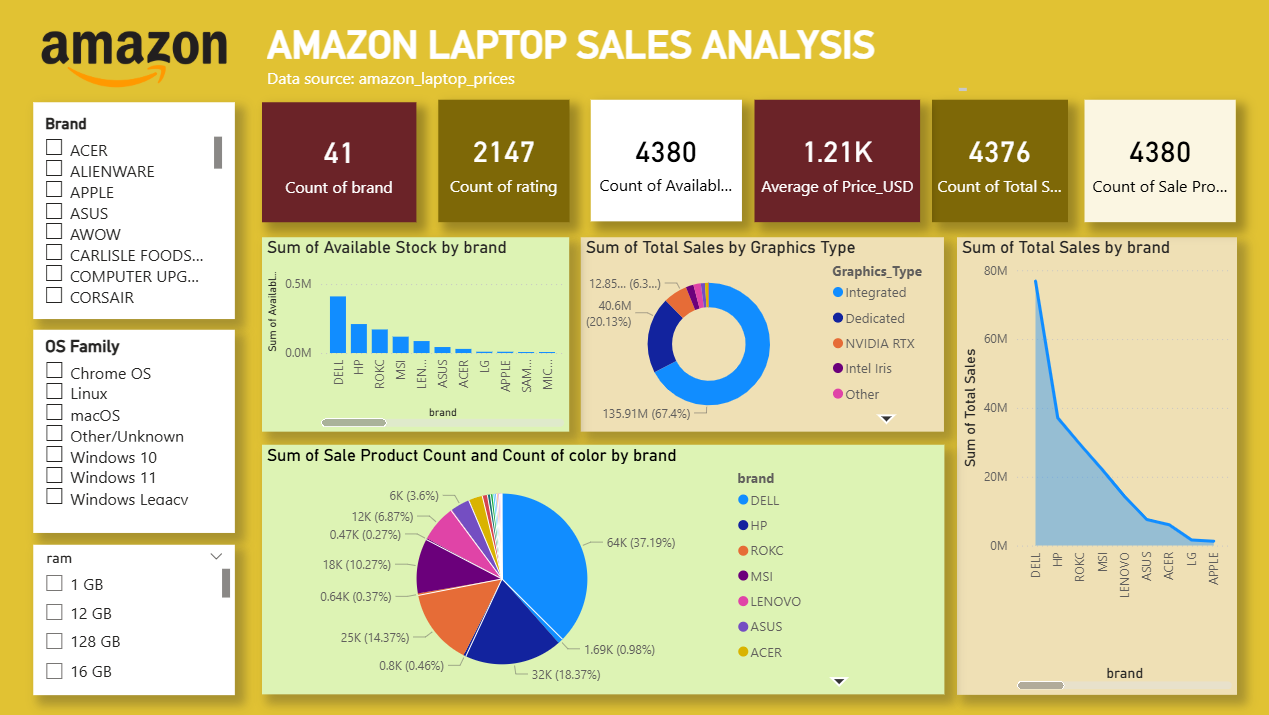

Layout of this report page (visuals, bound fields, positions):
{"tool":"powerbi","page":{"name":"Page 1","canvas":[1280,720],"ordinal":0},"visuals":[{"type":"card","fields":{"Values":["Count(amazon_laptop_prices.brand)"]},"box":[265.5,106.8,154.4,119.7],"z":0},{"type":"card","fields":{"Values":["CountNonNull(amazon_laptop_prices.Total Sales)"]},"box":[934.9,103.9,135.6,122.6],"z":1000},{"type":"card","fields":{"Values":["CountNonNull(amazon_laptop_prices.rating)"]},"box":[441.5,103.9,131.3,122.6],"z":2000},{"type":"card","fields":{"Values":["CountNonNull(amazon_laptop_prices.Available Stock)"]},"box":[593,103.9,151.5,122.6],"z":3000},{"type":"card","fields":{"Values":["Avg(amazon_laptop_prices.Price_USD)"]},"box":[757.4,103.9,165.9,122.6],"z":4000},{"type":"donutChart","title":"Sum of Total Sales by Graphics Type","fields":{"Category":["amazon_laptop_prices.Graphics_Type"],"Y":["Sum(amazon_laptop_prices.Total Sales)"]},"box":[584.3,240.9,363.6,194.8],"z":5000},{"type":"stackedAreaChart","fields":{"Category":["amazon_laptop_prices.brand"],"Y":["Sum(amazon_laptop_prices.Total Sales)"]},"box":[959.4,240.9,279.9,457.4],"z":6000},{"type":"textbox","title":"AMAZON LAPTOP SALES ANALYSIS","box":[265.5,26,709.8,73.6],"z":7000},{"type":"card","fields":{"Values":["CountNonNull(amazon_laptop_prices.Sale Product Count)"]},"box":[1087.8,103.9,151.5,122.6],"z":8000},{"type":"image","box":[36.1,31.7,202,63.5],"z":9000},{"type":"columnChart","fields":{"Category":["amazon_laptop_prices.brand"],"Y":["Sum(amazon_laptop_prices.Available Stock)"]},"box":[265.5,240.9,307.3,194.8],"z":10000},{"type":"listSlicer","title":"Brand","fields":{"Values":["amazon_laptop_prices.brand"]},"box":[36.2,106.2,213.5,217.2],"z":11000},{"type":"listSlicer","title":"OS Family","fields":{"Values":["amazon_laptop_prices.OS_Family"]},"box":[36.2,333,213.5,203.9],"z":12000},{"type":"pieChart","fields":{"Category":["amazon_laptop_prices.brand"],"Y":["Sum(amazon_laptop_prices.Sale Product Count)","CountNonNull(amazon_laptop_prices.color)"]},"box":[265.5,448.7,682.4,249.6],"z":13000},{"type":"slicer","fields":{"Values":["amazon_laptop_prices.ram"]},"box":[36.2,547.7,213.5,150.8],"z":14000}]}

Visuals, with their boxes in screenshot pixels (x1, y1, x2, y2), scaled from the page's 1280x720 canvas onto the 1269x715 screenshot:
card - Count(amazon_laptop_prices.brand): [263,106,416,225]
card - CountNonNull(amazon_laptop_prices.Total Sales): [927,103,1061,225]
card - CountNonNull(amazon_laptop_prices.rating): [438,103,568,225]
card - CountNonNull(amazon_laptop_prices.Available Stock): [588,103,738,225]
card - Avg(amazon_laptop_prices.Price_USD): [751,103,915,225]
"Sum of Total Sales by Graphics Type" donutChart: [579,239,940,433]
stackedAreaChart - amazon_laptop_prices.brand x Sum(amazon_laptop_prices.Total Sales): [951,239,1229,693]
"AMAZON LAPTOP SALES ANALYSIS" textbox: [263,26,967,99]
card - CountNonNull(amazon_laptop_prices.Sale Product Count): [1078,103,1229,225]
image: [36,31,236,95]
columnChart - amazon_laptop_prices.brand x Sum(amazon_laptop_prices.Available Stock): [263,239,568,433]
"Brand" listSlicer: [36,105,248,321]
"OS Family" listSlicer: [36,331,248,533]
pieChart - amazon_laptop_prices.brand x Sum(amazon_laptop_prices.Sale Product Count): [263,446,940,693]
slicer - amazon_laptop_prices.ram: [36,544,248,694]
